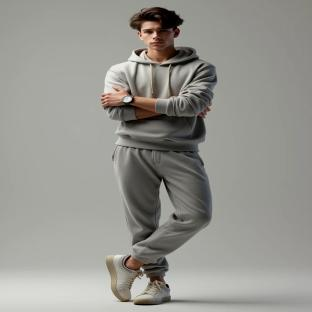Human: (100, 8, 217, 304)
